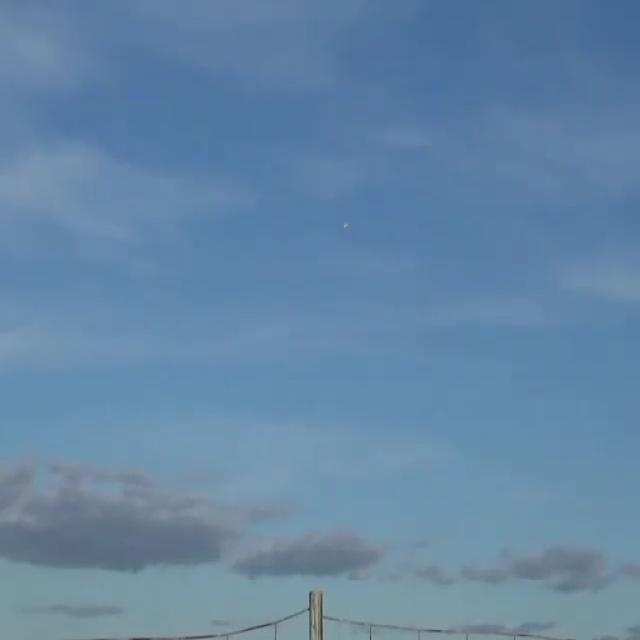AirPlane: (322, 196, 367, 252)
